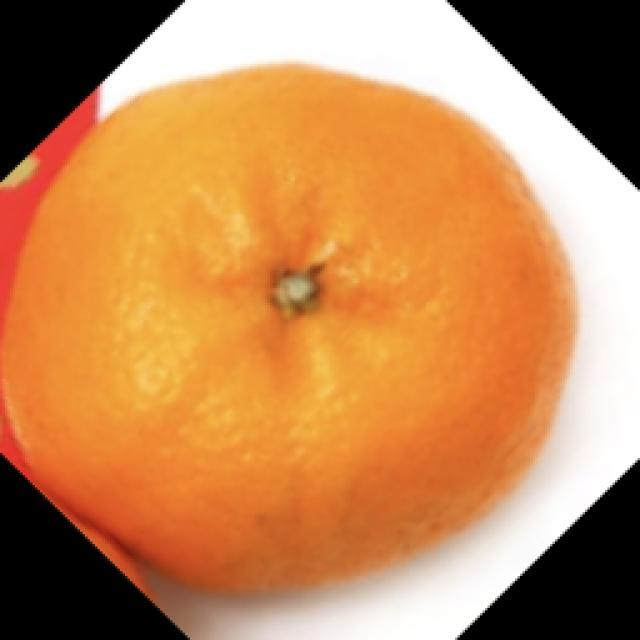Orange: (0, 60, 578, 596)
